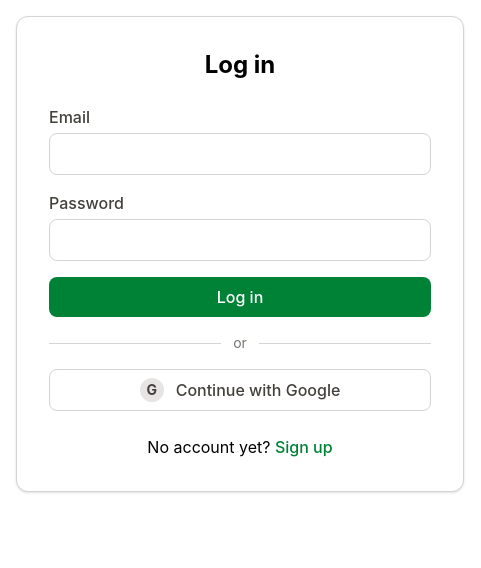
Test: Login page › shows the friendly message when login fails
Type "amina@example.com" into the field labelled "Email". click: (240, 154)
box: [49,133,431,175]
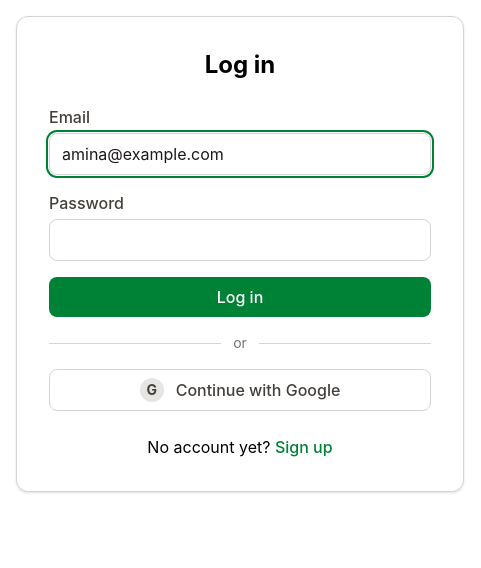
Type "wrongpass" into the password field labelled "Password". click: (240, 240)
box: [49,219,431,261]
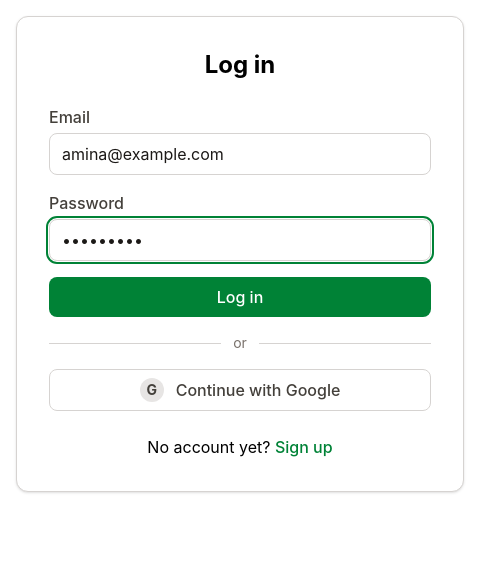
Click the button "Log in". click: (240, 297)
box: [49,277,431,317]
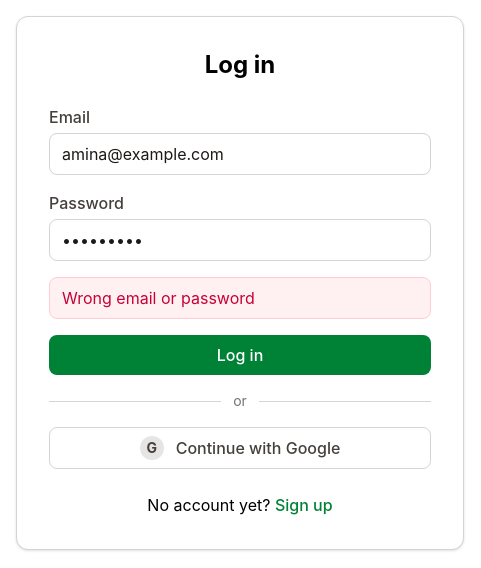
expect the message reads "Wrong email or password": met, box [62,288,255,308]
